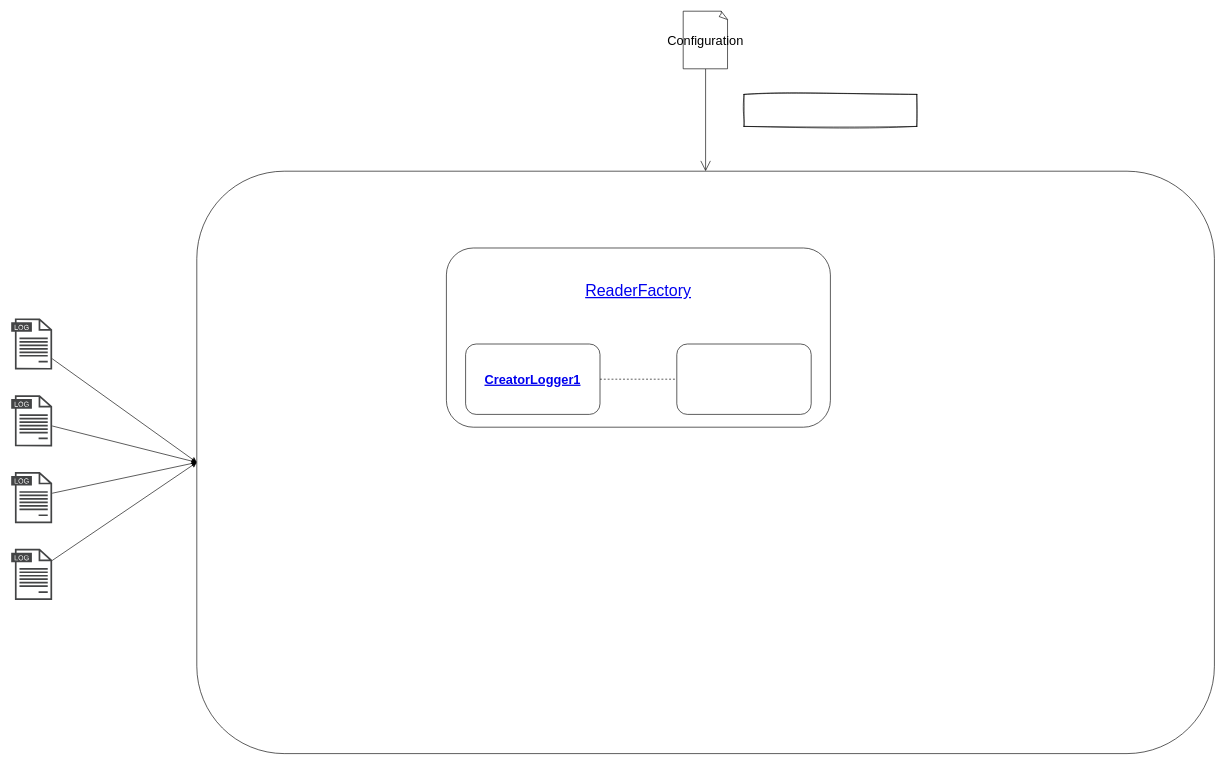
The diagram is 1226 pixels wide and 765 high, and some of its shapes have lost their labels. The centre of each missing label's shape, as x and y in pixels:
"CreatorLoggerN" belongs at (743,378).
"This file will contain the next information: - File format acceptance" belongs at (830,110).
